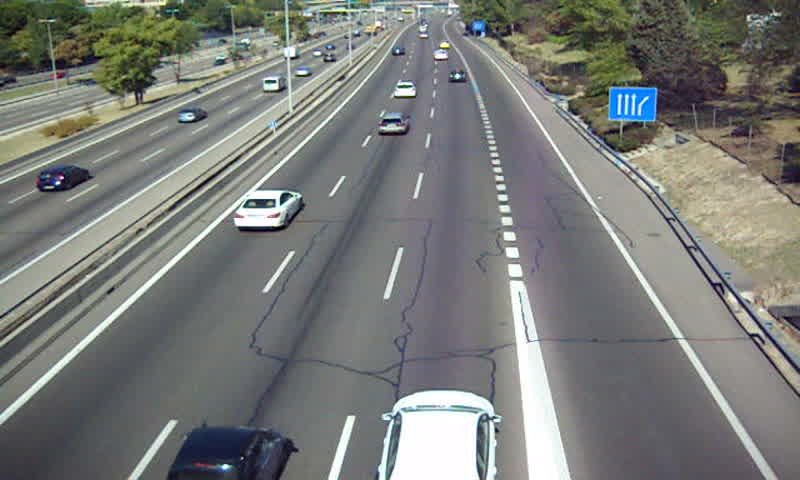car: (378, 390, 496, 480), (235, 190, 303, 228), (379, 113, 409, 134), (394, 82, 417, 98), (448, 69, 468, 83)
